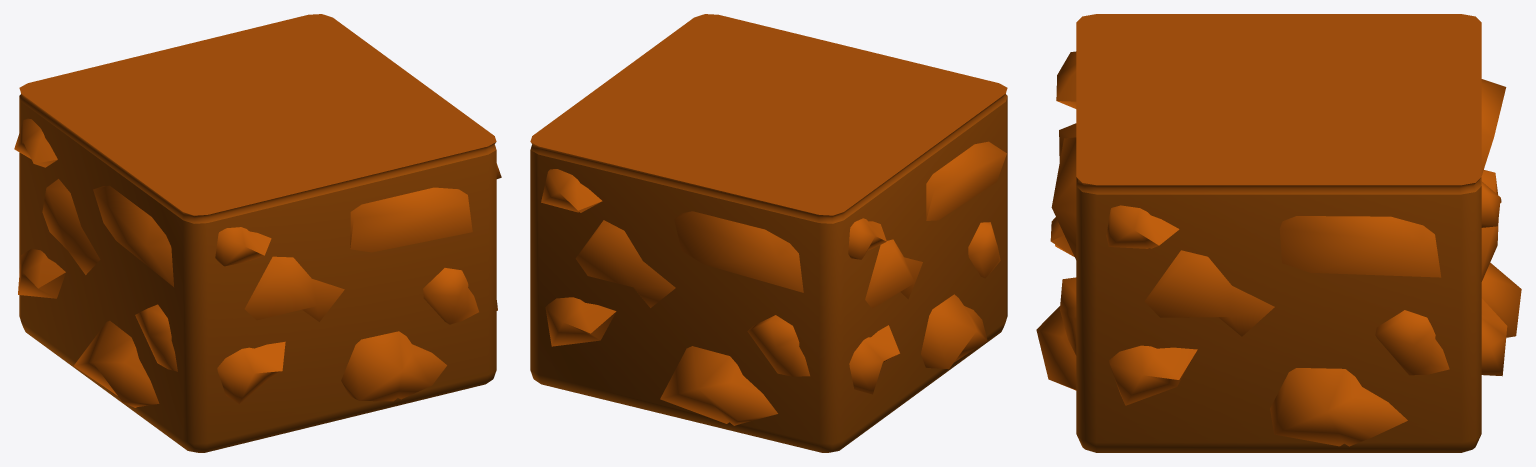
Rendered from 3D_Tile_Socket_Underground_B03.fbx.
3 views of the same model, side by side, from view 1: azimuth 30°, elevation 25°; view 2: azimuth 150°, elevation 25°; view 3: azimuth 270°, elevation 25° (orthographic). The views are drawn at different scales.
Visible parts, largest first — view 1: 3D_Tile_Socket_Underground_B03; view 2: 3D_Tile_Socket_Underground_B03; view 3: 3D_Tile_Socket_Underground_B03.
Part boxes in pixels (<box>): 3D_Tile_Socket_Underground_B03: <box>14,14,501,452</box>; 3D_Tile_Socket_Underground_B03: <box>530,14,1007,452</box>; 3D_Tile_Socket_Underground_B03: <box>1036,14,1521,452</box>.
Size of the model in its own units: 239 by 150 by 239.
